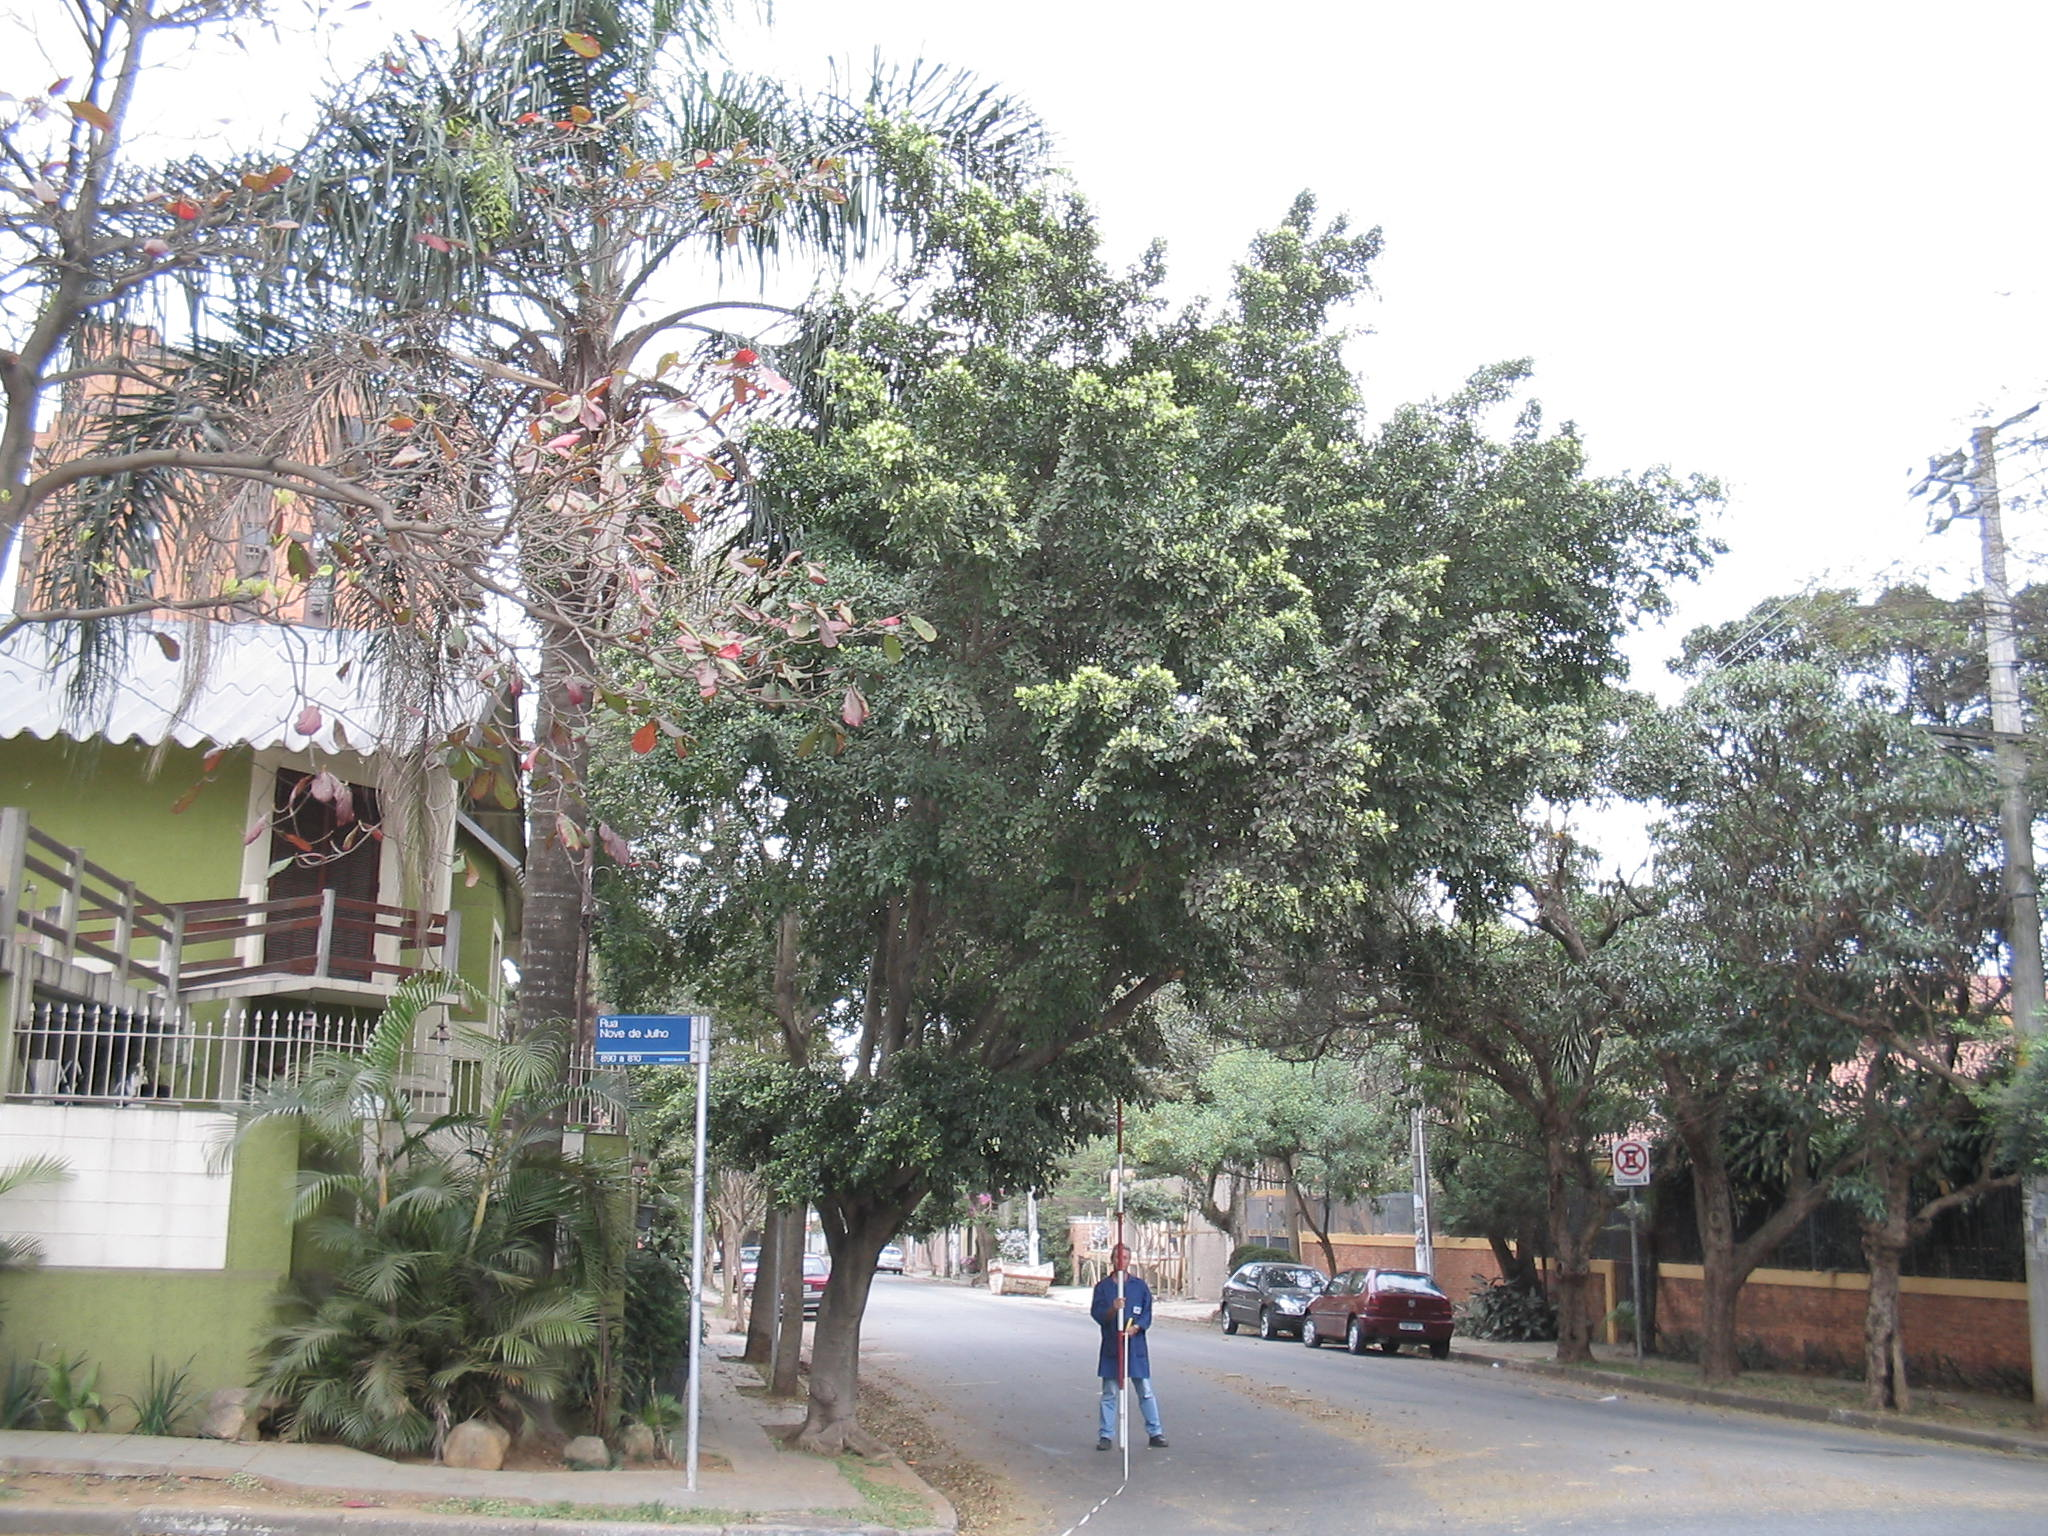crown: (748, 195, 1730, 1213)
stem: (793, 1252, 898, 1459)
stick: (1089, 1096, 1155, 1447)
tree: (737, 190, 1734, 1462), (1671, 589, 2035, 1413)
